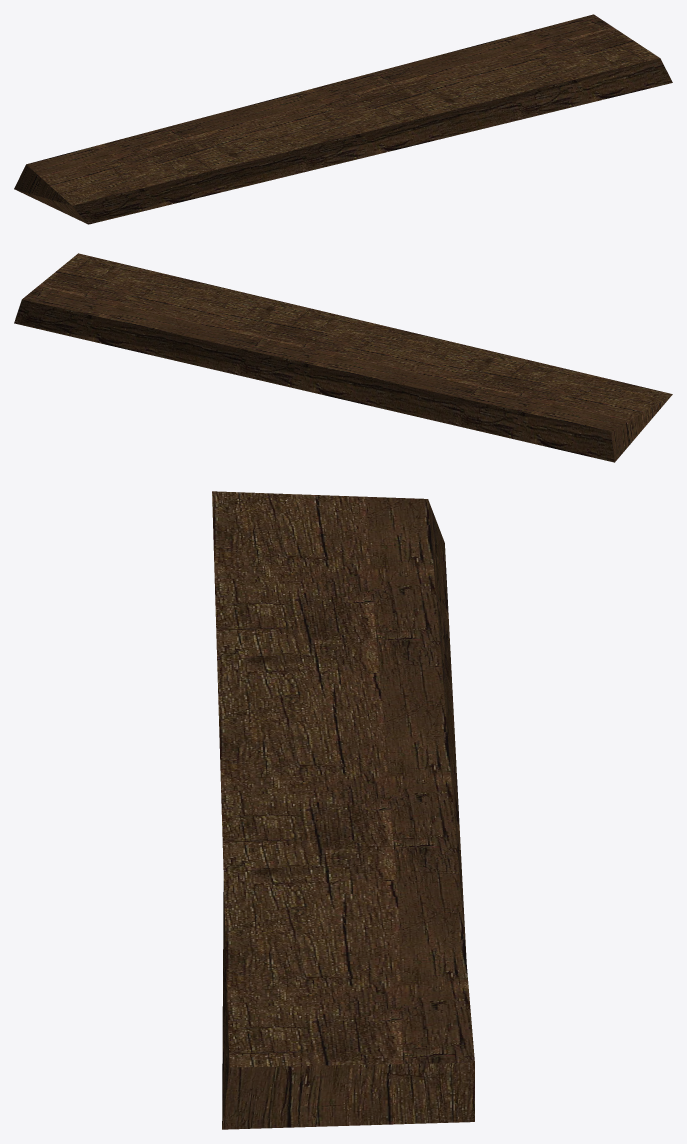
The model's file is DESKA3.glb.
The picture shows the model from 3 angles, top to bottom: view 1: azimuth 30°, elevation 25°; view 2: azimuth 150°, elevation 25°; view 3: azimuth 270°, elevation 25°; orthographic projection. The views are drawn at different scales.
Visible parts, largest first — view 1: DESKA3; view 2: DESKA3; view 3: DESKA3.
Boxes of the visible parts, x1,y1,x2,y2 form: DESKA3: (14,14,672,224); DESKA3: (14,253,672,462); DESKA3: (212,491,474,1129).
Bounding box in the file's own units: 1.83 × 0.0751 × 0.346.
1 material, 1 textured.
